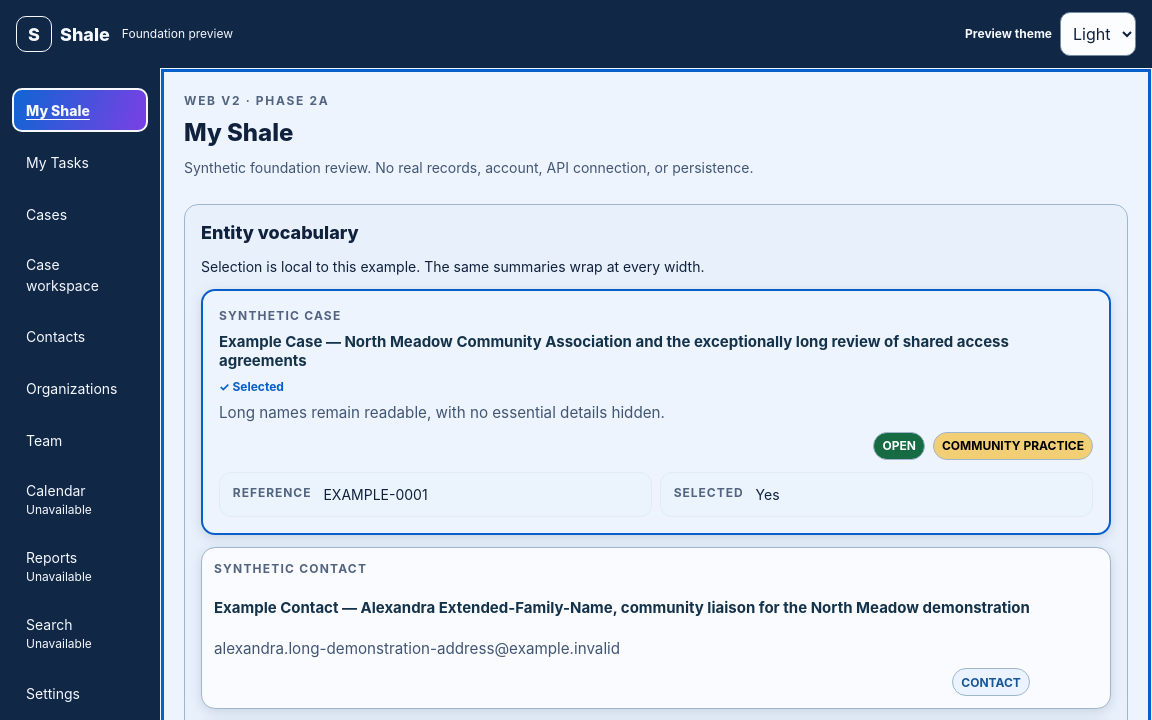
Test: isolated synthetic foundation › keeps Case workspace reachable and exposes the active destination without color
This screenshot has width=1152, height=720.
Click the link "Case workspace" at (62, 275), box [26,256,99,294]
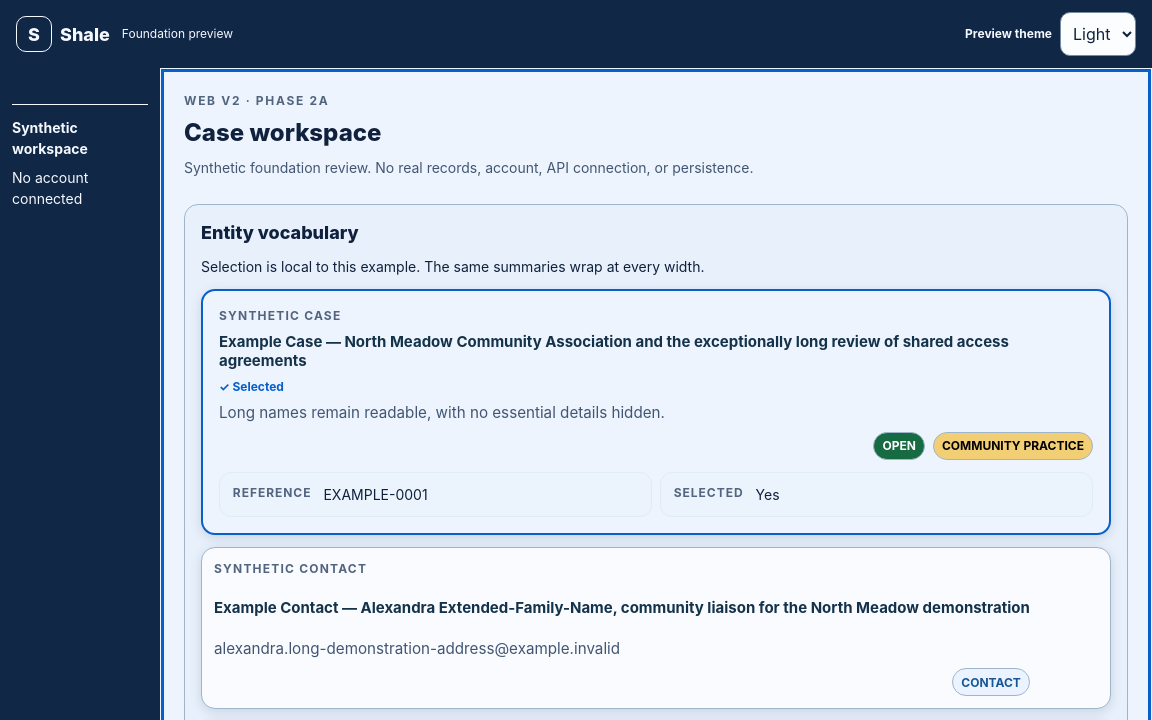
Check: the heading "Case workspace" is shown, box [184,118,382,147]
